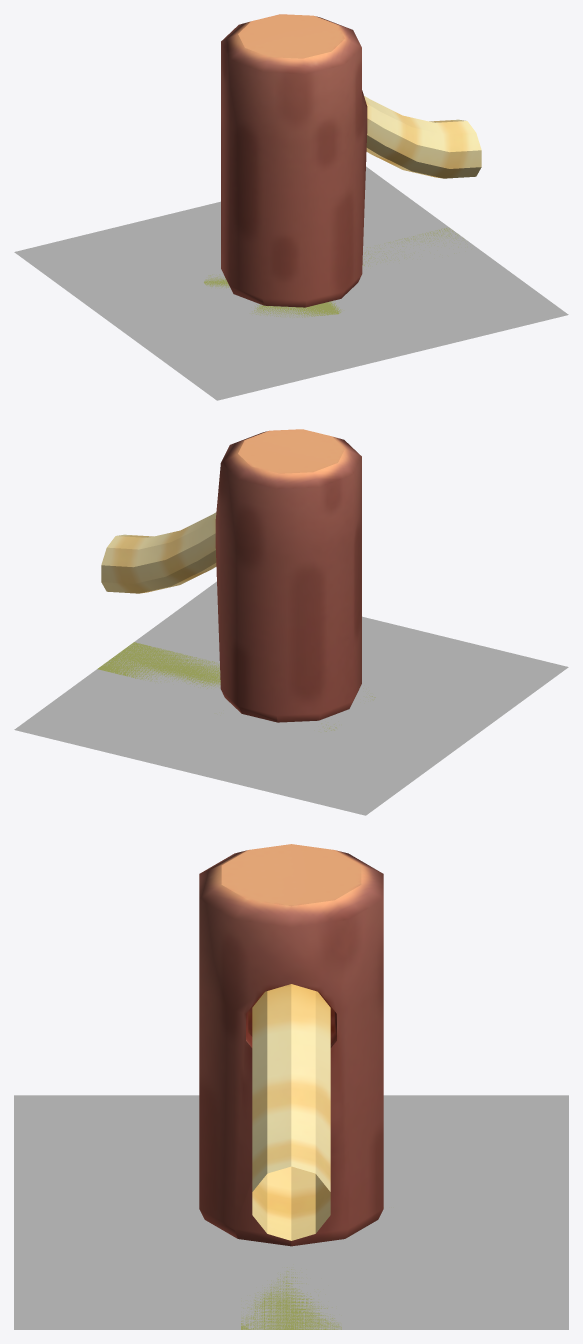
Rendered from Fence_Solo.fbx.
3 renders of one model, top to bottom at view 1: azimuth 30°, elevation 25°; view 2: azimuth 150°, elevation 25°; view 3: azimuth 270°, elevation 25°, orthographic. The views are drawn at different scales.
Visible parts, largest first — view 1: FenceSoloGrid, FenceSolo, FenceSoloShadow; view 2: FenceSoloGrid, FenceSolo, FenceSoloShadow; view 3: FenceSoloGrid, FenceSolo, FenceSoloShadow.
Boxes of the visible parts, x1=… form: FenceSoloGrid: x1=14, y1=166, x2=568, y2=400; FenceSolo: x1=221, y1=14, x2=481, y2=307; FenceSoloShadow: x1=204, y1=228, x2=463, y2=317; FenceSoloGrid: x1=14, y1=581, x2=568, y2=815; FenceSolo: x1=101, y1=429, x2=361, y2=722; FenceSoloShadow: x1=97, y1=642, x2=375, y2=731; FenceSoloGrid: x1=14, y1=1095, x2=568, y2=1329; FenceSolo: x1=199, y1=844, x2=383, y2=1246; FenceSoloShadow: x1=241, y1=1267, x2=341, y2=1329.
Size of the model in its own units: 100 by 67.1 by 100.
